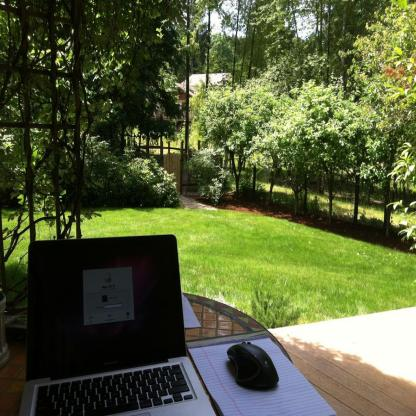board: (19, 246, 213, 416)
